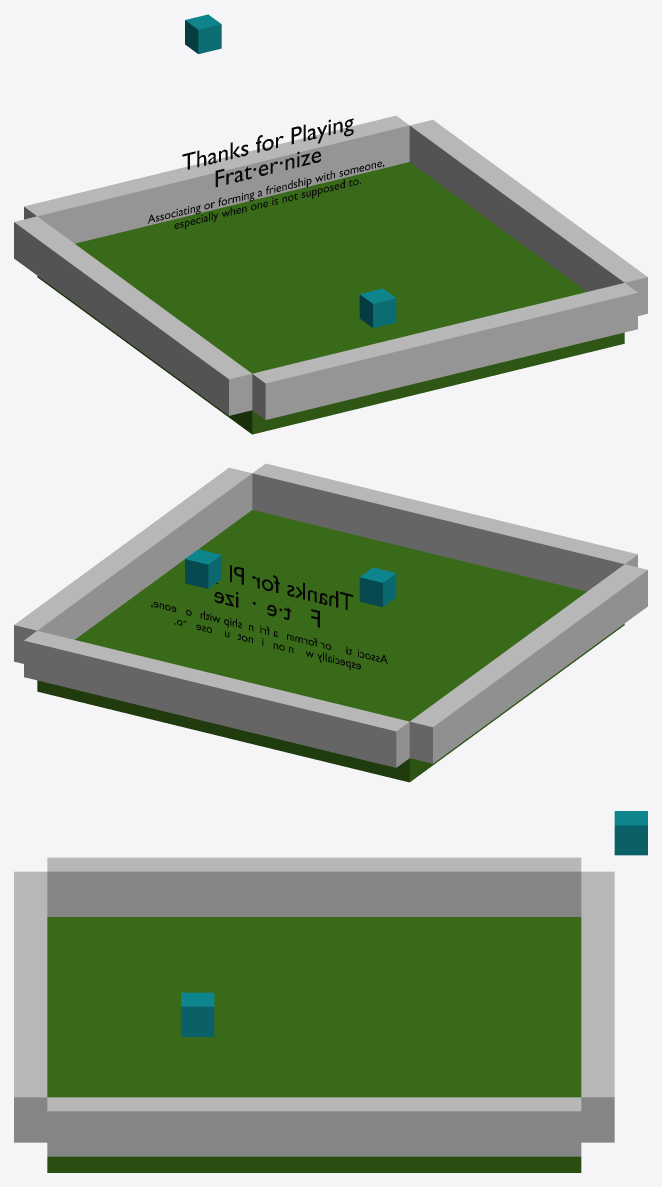
File: world.obj
3 views of the same model, one above another, from view 1: azimuth 30°, elevation 25°; view 2: azimuth 150°, elevation 25°; view 3: azimuth 270°, elevation 25° (orthographic). The views are drawn at different scales.
Parts seen in each view (by area): view 1: Floor.001_Cube.002, Boundary.001_Cube.000, Boundary.002_Cube.003, Boundary.004_Cube.005, Boundary.003_Cube.004, Text.001, Text, Marker.Spawn_Cube.016, Light.0.000_Cube.001; view 2: Floor.001_Cube.002, Boundary.002_Cube.003, Boundary.001_Cube.000, Boundary.004_Cube.005, Boundary.003_Cube.004, Marker.Spawn_Cube.016, Light.0.000_Cube.001, Text, Text.001; view 3: Floor.001_Cube.002, Boundary.003_Cube.004, Boundary.004_Cube.005, Boundary.002_Cube.003, Boundary.001_Cube.000, Light.0.000_Cube.001, Marker.Spawn_Cube.016.
Part boxes in pixels (bbox=[...]): Floor.001_Cube.002: bbox=[37, 162, 624, 434]; Boundary.001_Cube.000: bbox=[252, 283, 637, 419]; Boundary.002_Cube.003: bbox=[24, 115, 409, 243]; Boundary.004_Cube.005: bbox=[14, 216, 252, 415]; Boundary.003_Cube.004: bbox=[409, 120, 647, 315]; Text.001: bbox=[182, 118, 353, 187]; Text: bbox=[148, 161, 384, 229]; Marker.Spawn_Cube.016: bbox=[359, 288, 396, 328]; Light.0.000_Cube.001: bbox=[185, 14, 221, 53]; Floor.001_Cube.002: bbox=[37, 510, 624, 782]; Boundary.002_Cube.003: bbox=[24, 630, 409, 767]; Boundary.001_Cube.000: bbox=[252, 463, 637, 591]; Boundary.004_Cube.005: bbox=[409, 564, 647, 763]; Boundary.003_Cube.004: bbox=[14, 467, 252, 663]; Marker.Spawn_Cube.016: bbox=[359, 567, 396, 607]; Light.0.000_Cube.001: bbox=[185, 549, 221, 588]; Text: bbox=[151, 602, 387, 669]; Text.001: bbox=[214, 565, 353, 627]; Floor.001_Cube.002: bbox=[47, 917, 581, 1172]; Boundary.003_Cube.004: bbox=[47, 1097, 581, 1156]; Boundary.004_Cube.005: bbox=[47, 857, 581, 916]; Boundary.002_Cube.003: bbox=[581, 871, 614, 1142]; Boundary.001_Cube.000: bbox=[14, 871, 47, 1142]; Light.0.000_Cube.001: bbox=[614, 811, 647, 855]; Marker.Spawn_Cube.016: bbox=[181, 992, 214, 1036].
Size of the model in its own units: 18 by 8 by 19.
